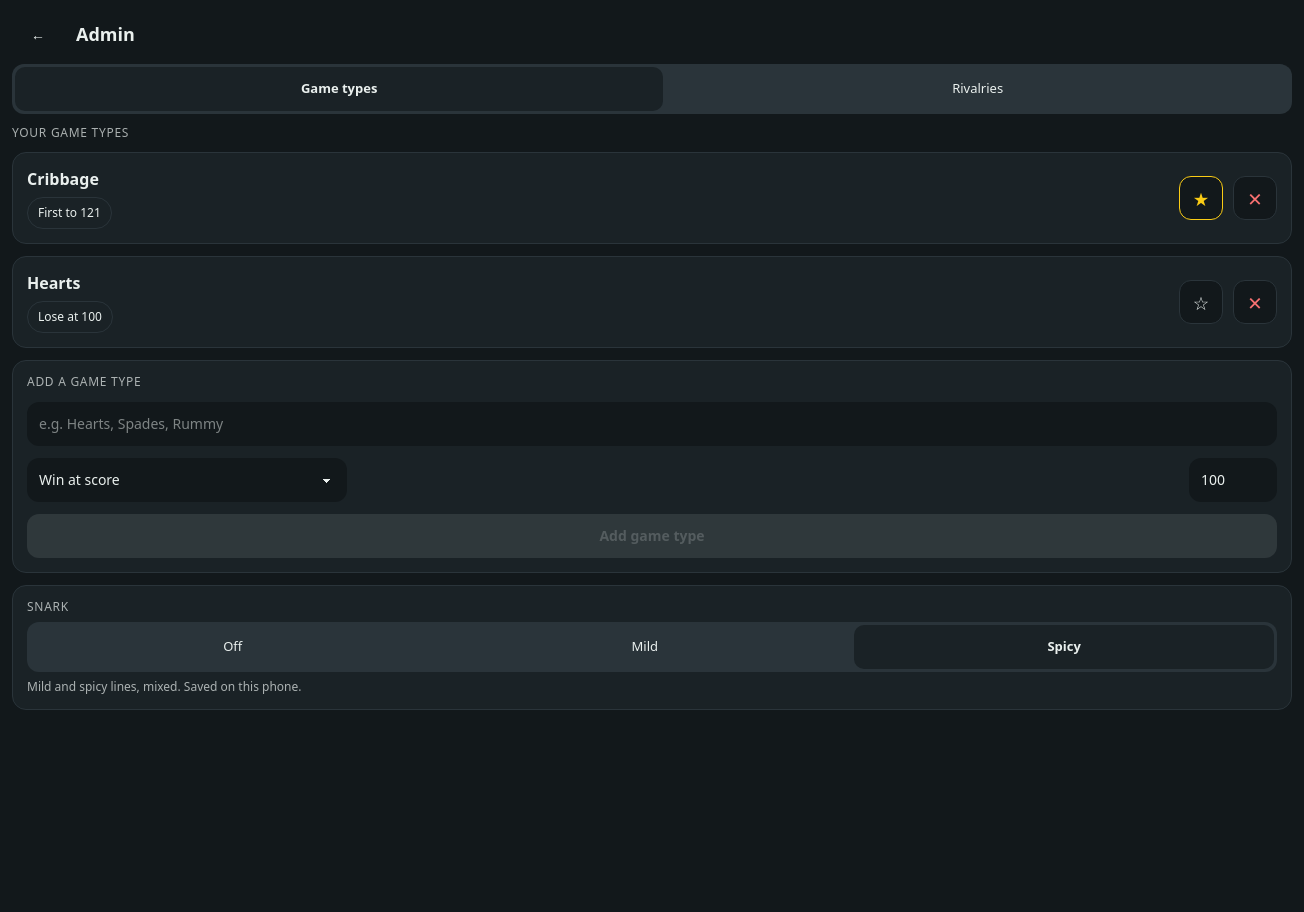
Test: AdminPanel › shows rivalry admin behind the PIN gate on the Rivalries tab
Click the tab "Rivalries" at coordinates (978, 89), box x1=666 y1=67 x2=1289 y2=111
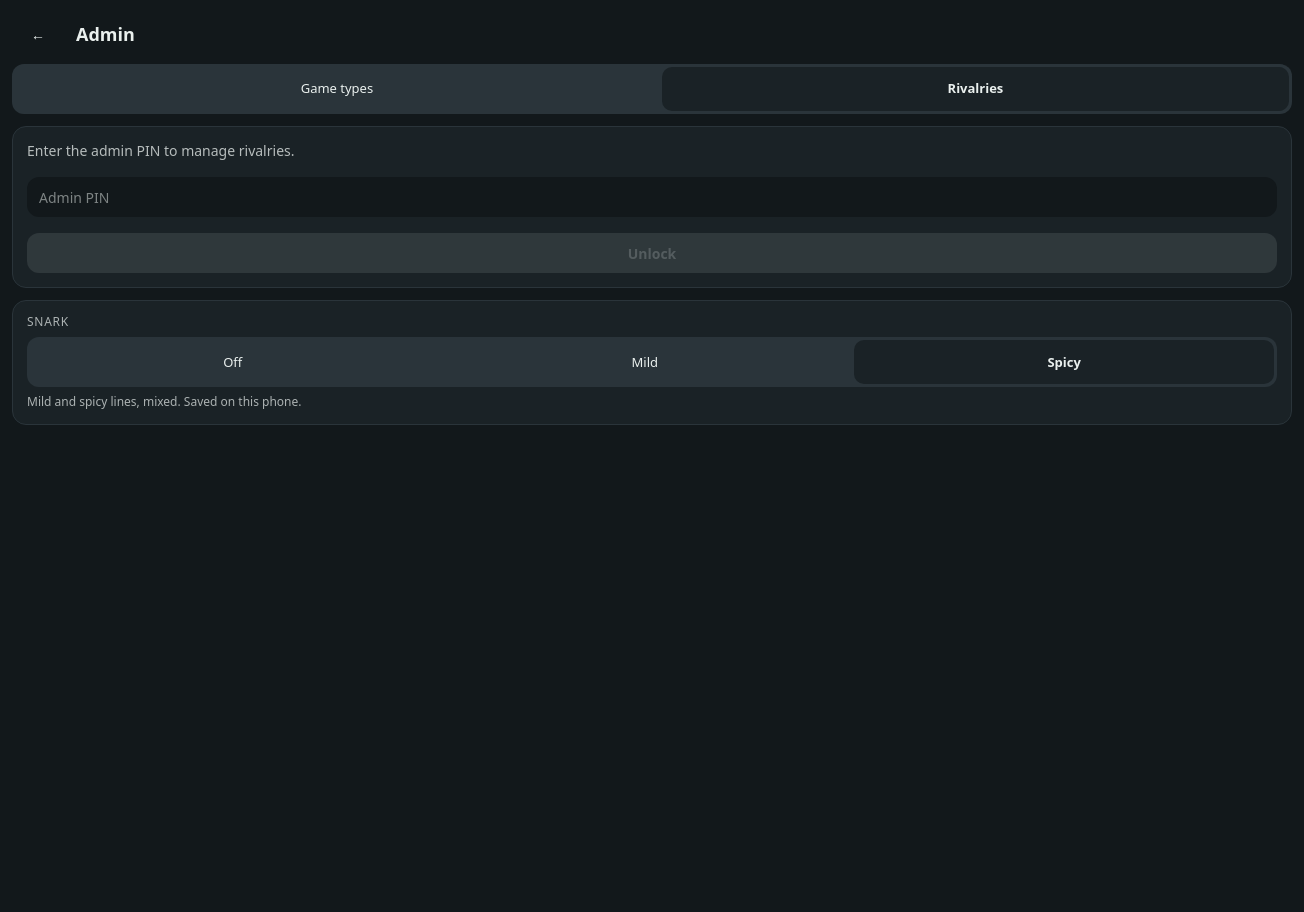
Result: the password field with placeholder "Admin PIN" is shown at x1=27 y1=177 x2=1277 y2=217
